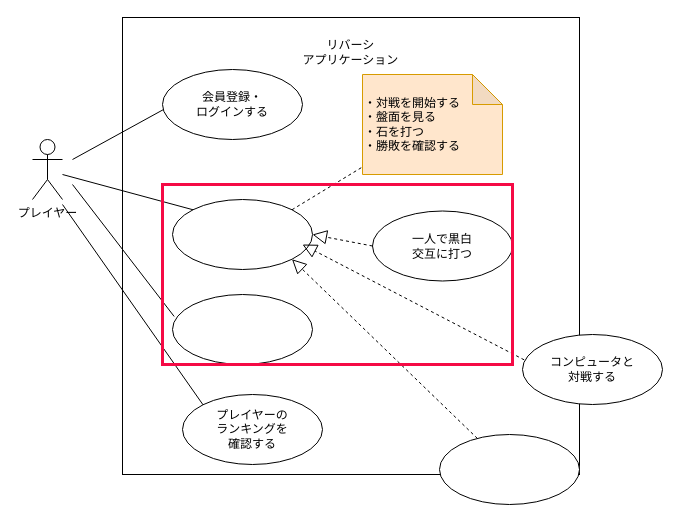
The diagram is 680 pixels wide and 522 high, and some of its shapes have lost their labels. Here are the shapes that lost their labels. From the top down, the centre of each, then its label:
At pixel 242 234: "対戦する".
At pixel 242 329: "自分の 過去の対戦結果を 確認する".
At pixel 509 469: "他のプレイヤーと 対戦する".
